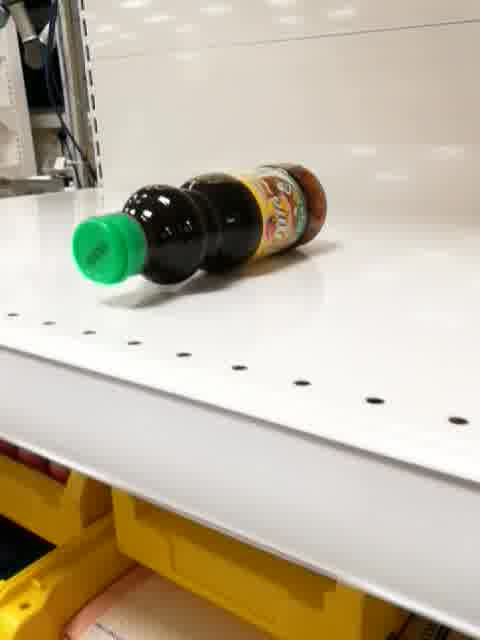cookingoil: (70, 160, 329, 287)
